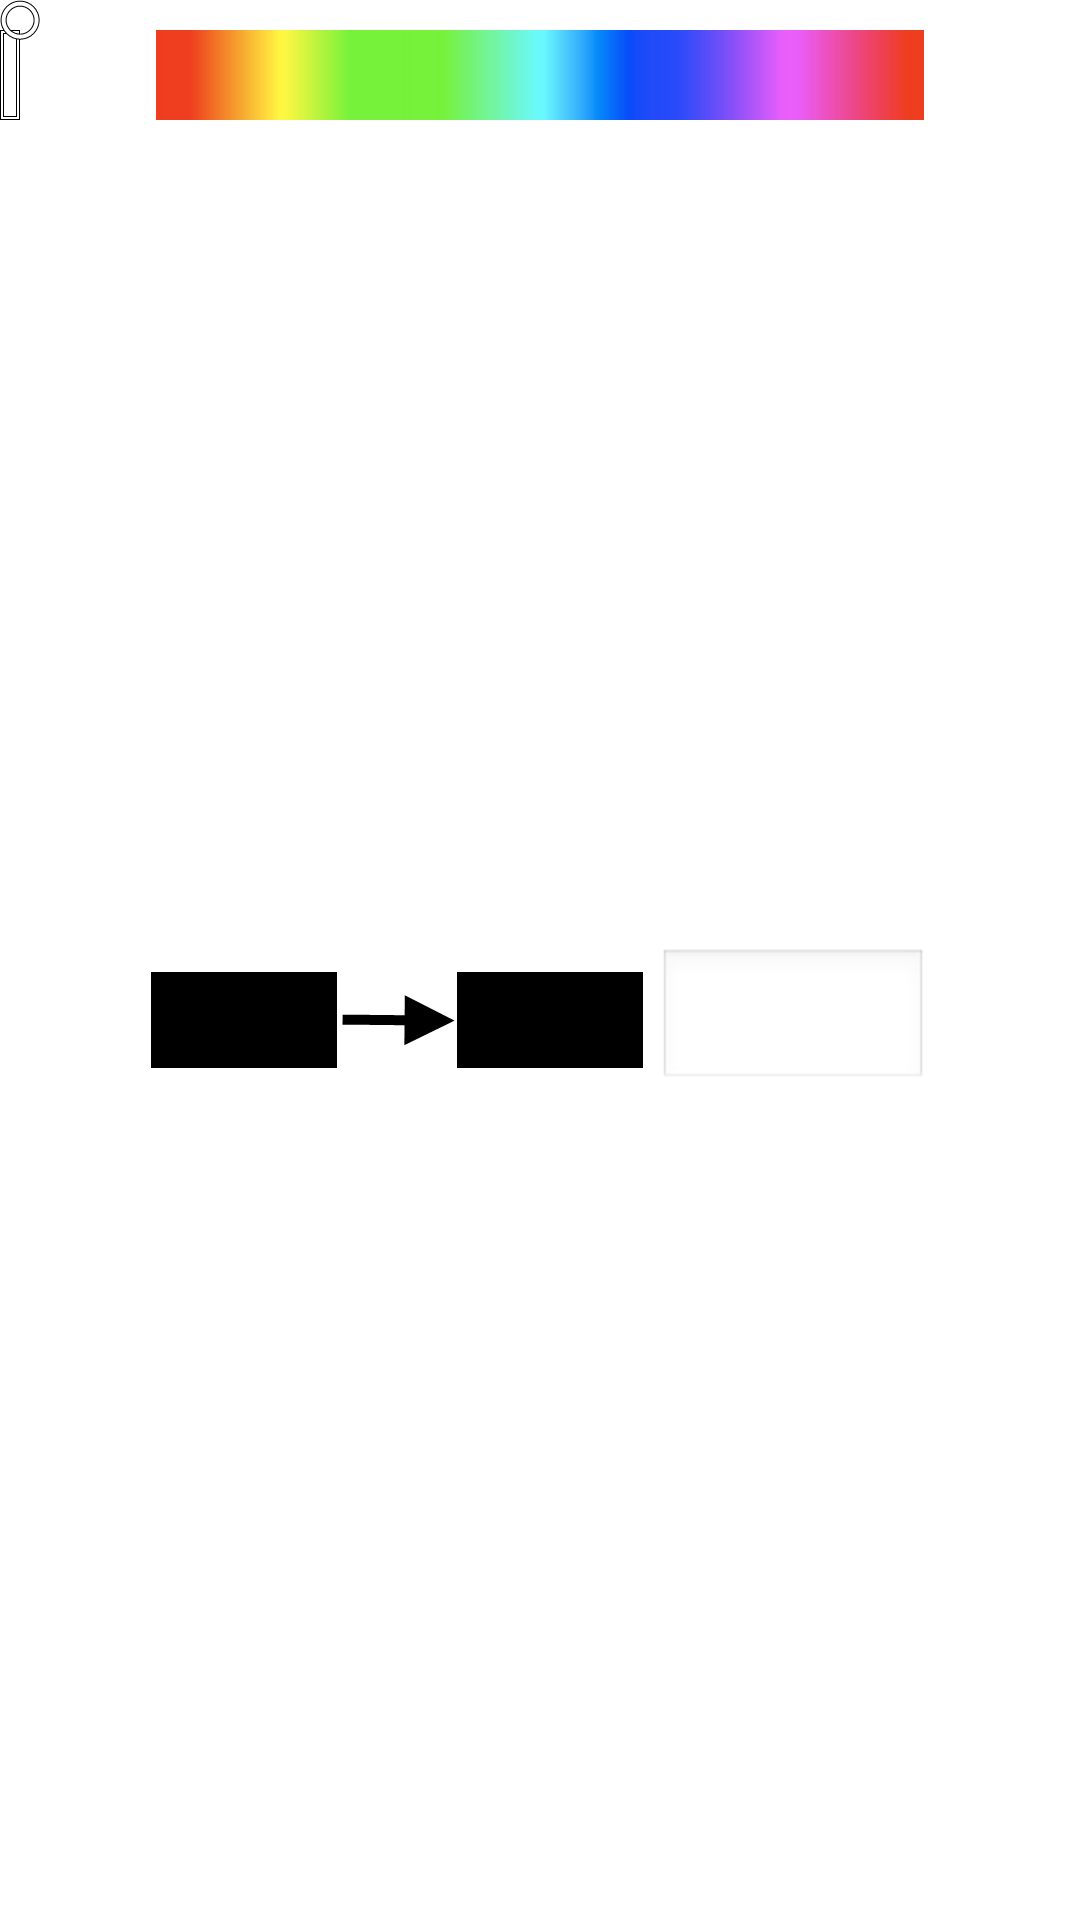

Screen size 1080 × 1920. Icon name, then its box in pixels as (x1, y1, x2, y2):
arrow: (342, 995, 455, 1045)
